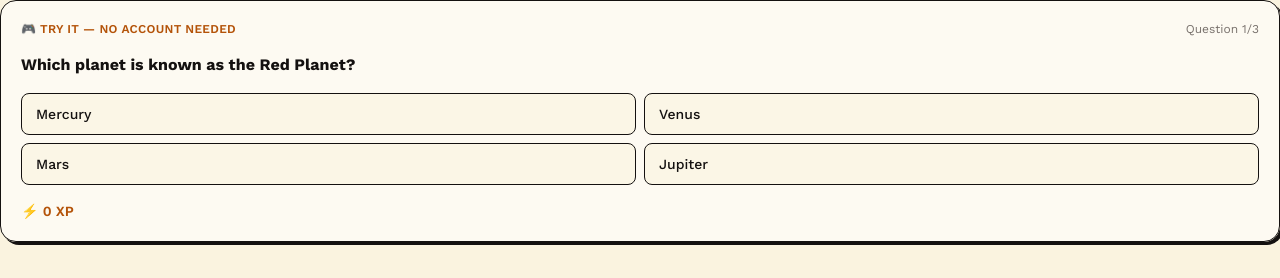
Test: DemoQuiz › awards demo XP for a correct answer and shows Next
The width and height of the screenshot is (1280, 278).
Click the button "Mars" at (53, 164), box [21,143,636,185]
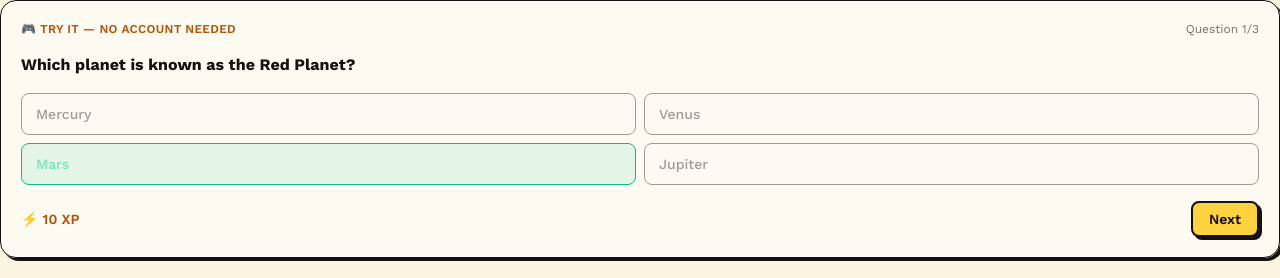
Result: the text "⚡ 10 XP" is shown at [21,209,80,229]
Result: the button "Next" is shown at [1191,201,1259,237]
